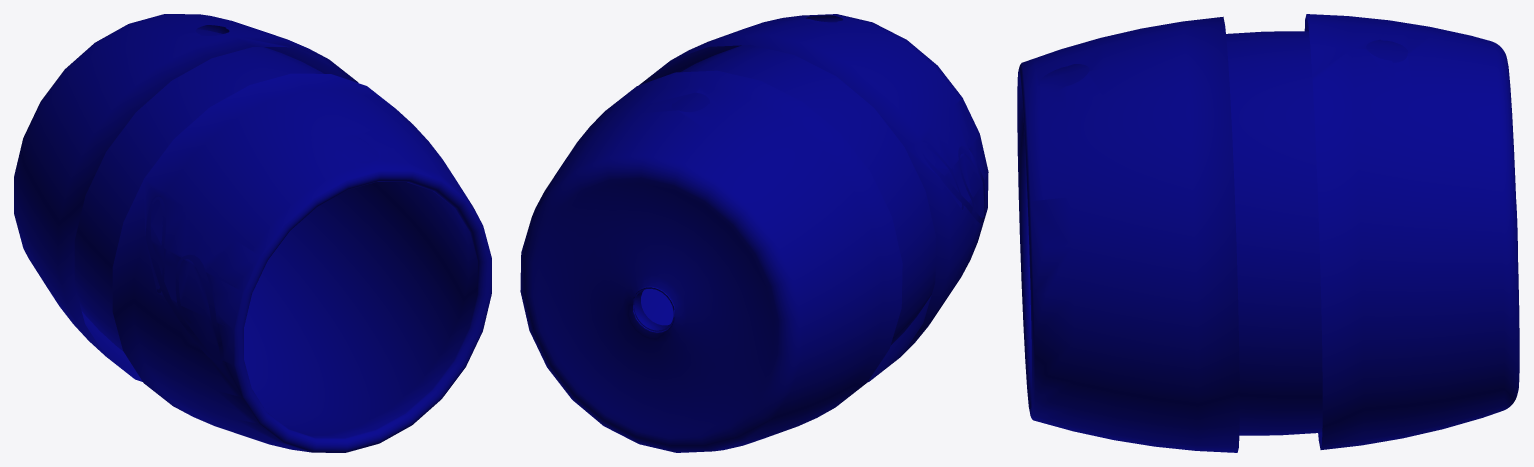
The picture shows the model from 3 angles, left to right: view 1: azimuth 30°, elevation 25°; view 2: azimuth 150°, elevation 25°; view 3: azimuth 270°, elevation 25°; orthographic projection. The views are drawn at different scales.
Size of the model in its own units: 0.5045 by 0.503 by 0.581.
